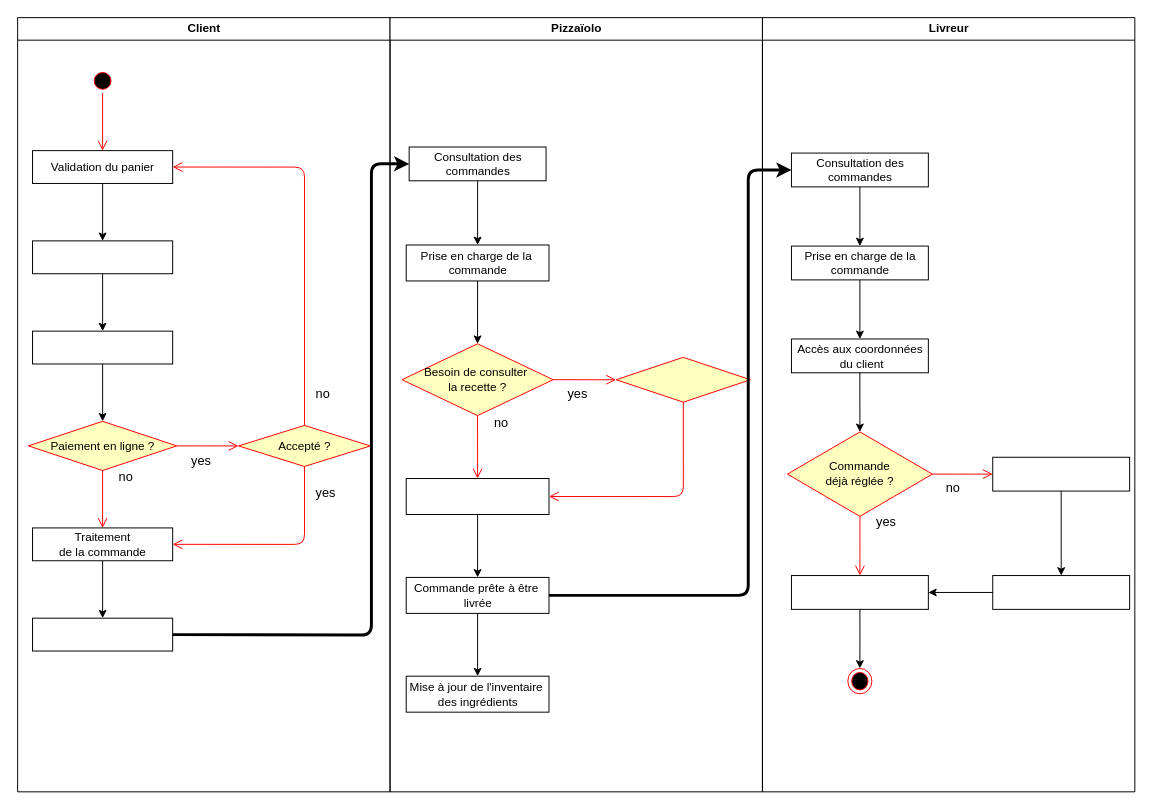
This 1152x809 diagram has some shape labels left out. The centre of each missing label's shape, as x and y in pixels:
Aide-mémoire: point (682, 379)
Commande envoyée: point (102, 634)
Encaissement de la commande: point (1061, 473)
Etat du réglement "Commande payée": point (1061, 592)
Livraison effectuée: point (859, 592)
Préparation de la commande: point (477, 496)
Saisie des informations de livraison: point (102, 257)
Saisie du mode de réglement: point (102, 347)
